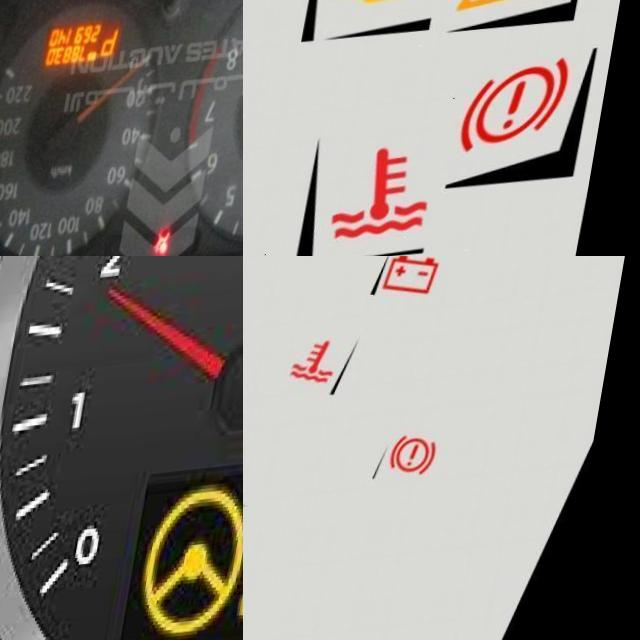Electronic Power Steering: (144, 484, 243, 640)
